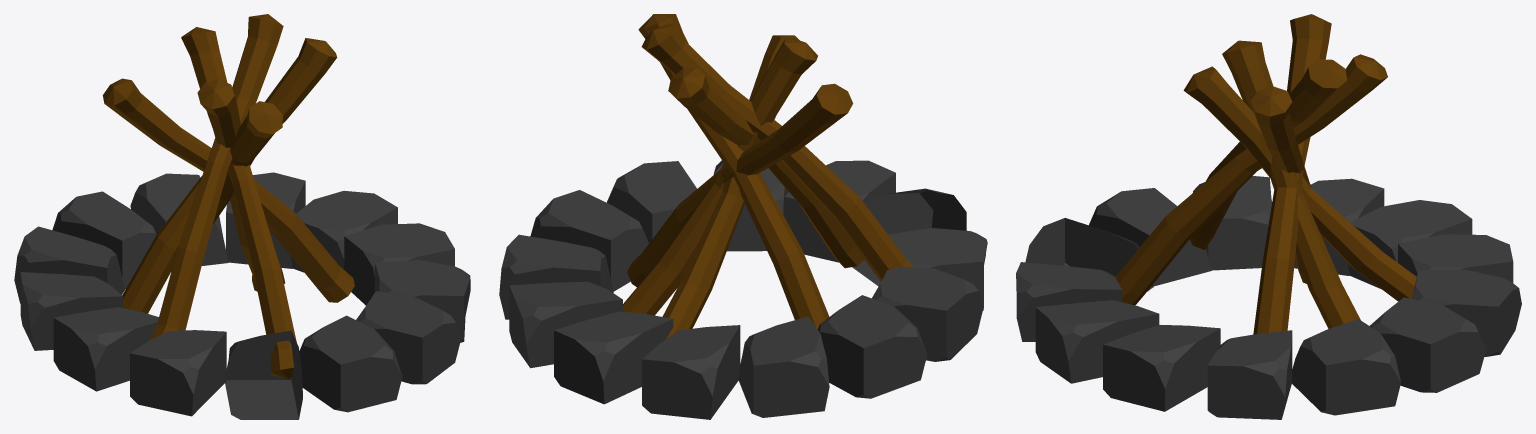
File: campfire.fbx
3 views of the same model, side by side, from view 1: azimuth 30°, elevation 25°; view 2: azimuth 150°, elevation 25°; view 3: azimuth 270°, elevation 25° (orthographic). The views are drawn at different scales.
Visible parts, largest first — view 1: Cube.001; view 2: Cube.001; view 3: Cube.001.
Boxes of the visible parts, x1,y1,x2,y2 form: Cube.001: (14,14,470,419); Cube.001: (499,14,987,419); Cube.001: (1016,14,1521,419).
Bounding box in the file's own units: 495 × 366 × 544.
